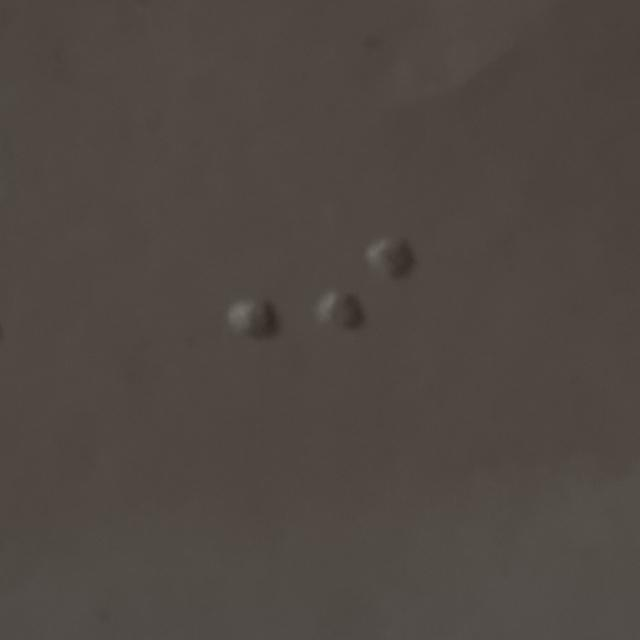dot_5: (177, 239, 277, 385)
two_cell_alphabet_isip: (317, 238, 417, 384)
